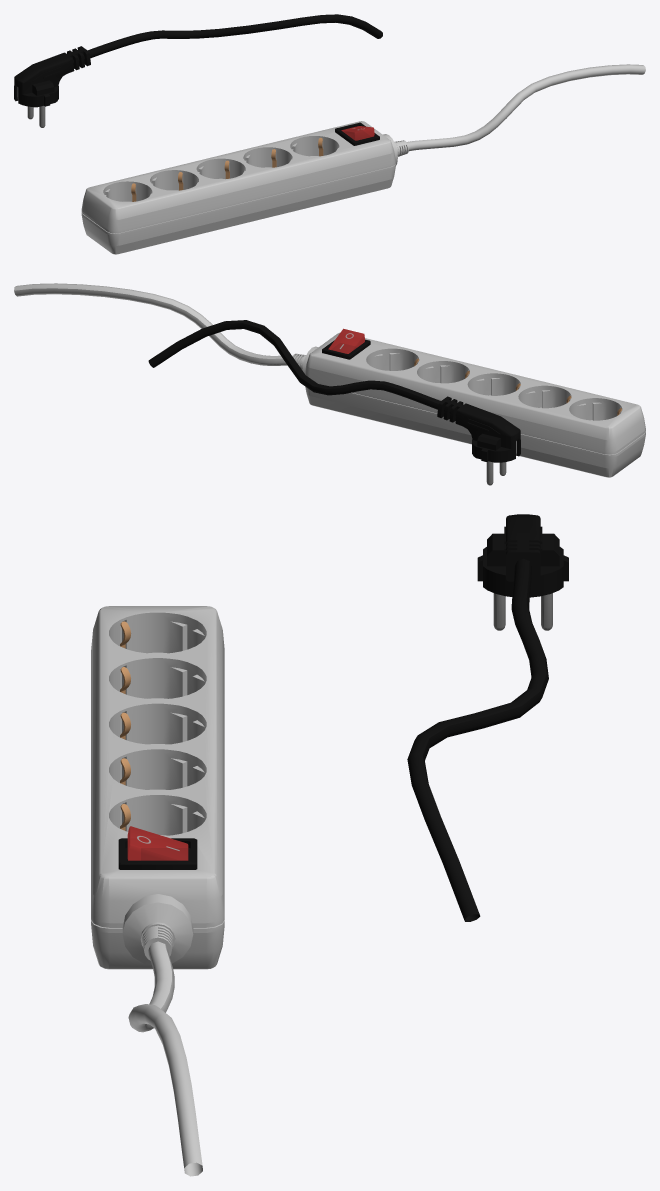
The model's file is powerStrip.glb.
3 renders of one model, top to bottom at view 1: azimuth 30°, elevation 25°; view 2: azimuth 150°, elevation 25°; view 3: azimuth 270°, elevation 25°, orthographic. The views are drawn at different scales.
Parts seen in each view (by area): view 1: connector_strip, power_plug_2, power_plug_2_cable, connector_strip_cable, switch; view 2: connector_strip, power_plug_2, power_plug_2_cable, connector_strip_cable, switch; view 3: connector_strip, power_plug_2_cable, power_plug_2, connector_strip_cable, switch.
Boxes of the visible parts, x1,y1,x2,y2 form: connector_strip: [81, 121, 408, 254]; power_plug_2: [14, 46, 90, 127]; power_plug_2_cable: [73, 14, 382, 64]; connector_strip_cable: [406, 64, 645, 151]; switch: [341, 126, 374, 140]; connector_strip: [292, 332, 645, 477]; power_plug_2: [437, 396, 520, 485]; power_plug_2_cable: [148, 320, 456, 416]; connector_strip_cable: [14, 283, 292, 365]; switch: [328, 328, 364, 353]; connector_strip: [91, 606, 224, 969]; power_plug_2_cable: [407, 558, 548, 921]; power_plug_2: [477, 514, 568, 630]; connector_strip_cable: [128, 941, 202, 1176]; switch: [127, 826, 188, 860].
Size of the model in its own units: 51.51 by 9.97 by 19.09.
Materials: 7 (1 with a texture image).
